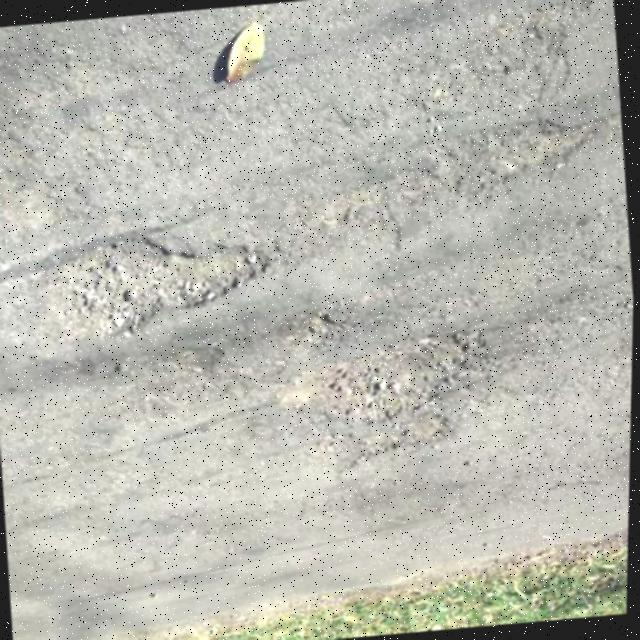Pothole: (44, 226, 282, 348), (282, 332, 514, 432), (306, 414, 464, 478), (296, 306, 350, 350)
